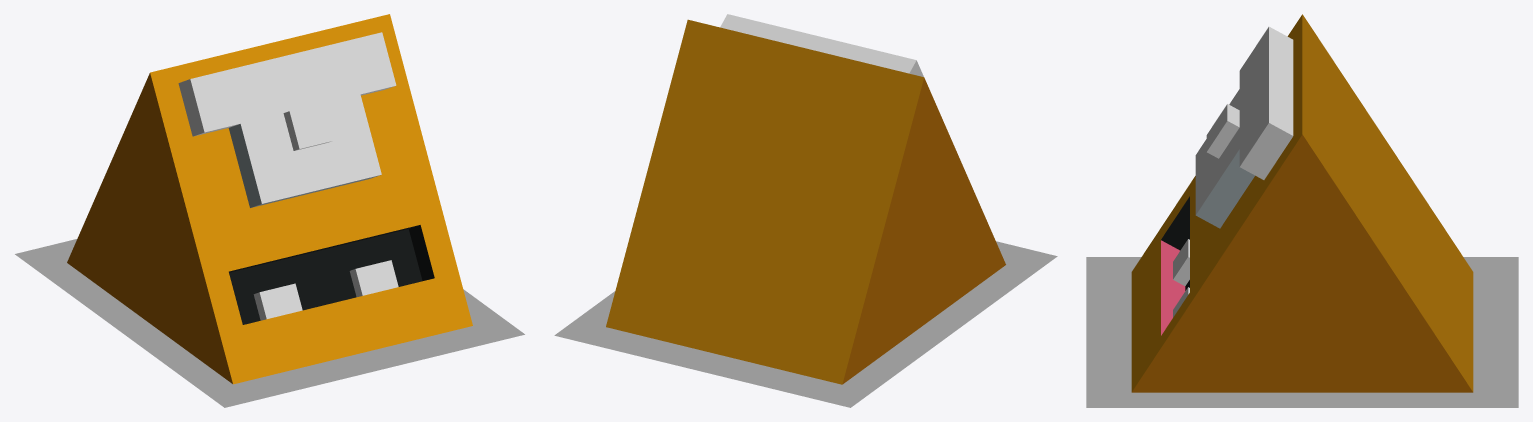
File: EN_MobileBit_Yellow.fbx
The picture shows the model from 3 angles, left to right: view 1: azimuth 30°, elevation 25°; view 2: azimuth 150°, elevation 25°; view 3: azimuth 270°, elevation 25°; orthographic projection. The views are drawn at different scales.
Parts seen in each view (by area): view 1: Body, Mouth, Shadow, Eyebrow, Eye, Pupil; view 2: Body, Shadow, Eyebrow; view 3: Body, Shadow, Eyebrow, Mouth, Eye, Pupil.
Boxes of the visible parts, x1,y1,x2,y2 form: Body: (67, 14, 472, 384); Mouth: (243, 260, 448, 378); Shadow: (15, 239, 524, 407); Eyebrow: (178, 32, 396, 136); Eye: (228, 94, 381, 207); Pupil: (283, 103, 333, 150); Body: (606, 19, 1005, 384); Shadow: (554, 241, 1057, 407); Eyebrow: (720, 14, 923, 76); Body: (1131, 14, 1473, 392); Shadow: (1086, 257, 1518, 407); Eyebrow: (1239, 26, 1293, 179); Mouth: (1131, 239, 1189, 379); Eye: (1195, 89, 1254, 228); Pupil: (1206, 104, 1239, 158).
Bounding box in the file's own units: 62.68 × 50 × 75.87.
